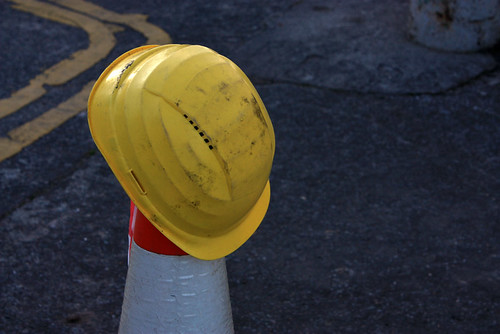hardhat: (80, 37, 292, 253)
